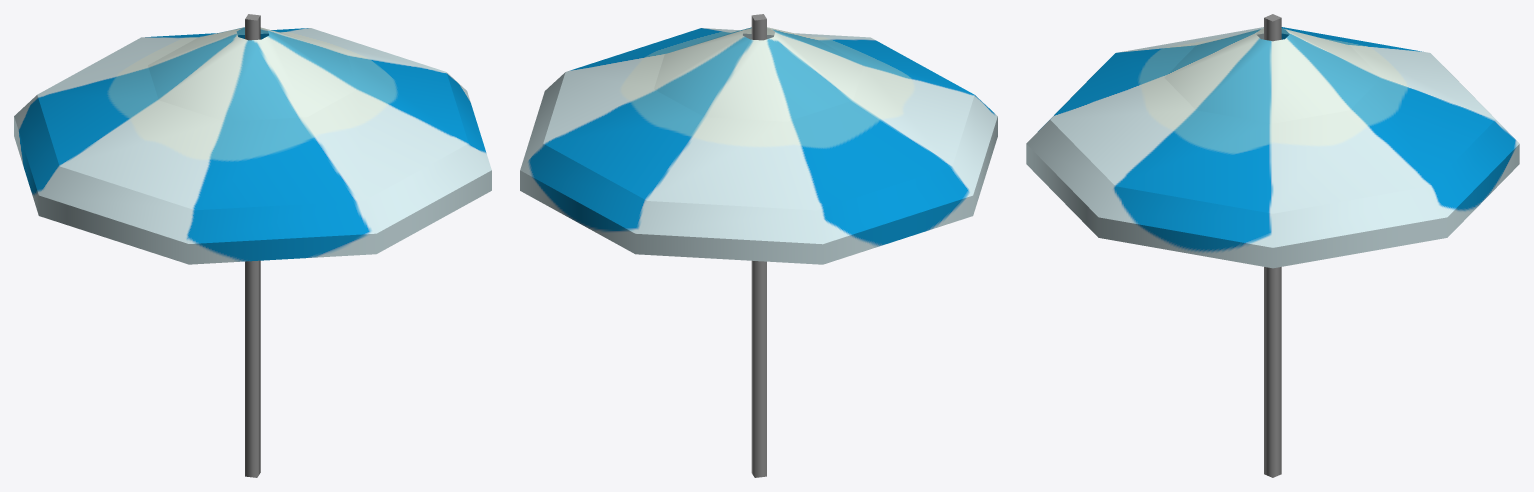
Rendered from guardaSol01.FBX.
The picture shows the model from 3 angles, left to right: view 1: azimuth 30°, elevation 25°; view 2: azimuth 150°, elevation 25°; view 3: azimuth 270°, elevation 25°; orthographic projection.
Parts seen in each view (by area): view 1: guardaSol01, asteGuardaSol01; view 2: guardaSol01, asteGuardaSol01; view 3: guardaSol01, asteGuardaSol01.
Part boxes in pixels (x1,y1,x2,y2): guardaSol01: (14,27,491,264); asteGuardaSol01: (245,14,260,477); guardaSol01: (520,27,997,264); asteGuardaSol01: (751,14,766,477); guardaSol01: (1026,27,1519,268); asteGuardaSol01: (1264,14,1281,477).
Size of the model in its own units: 420 by 429 by 420.
